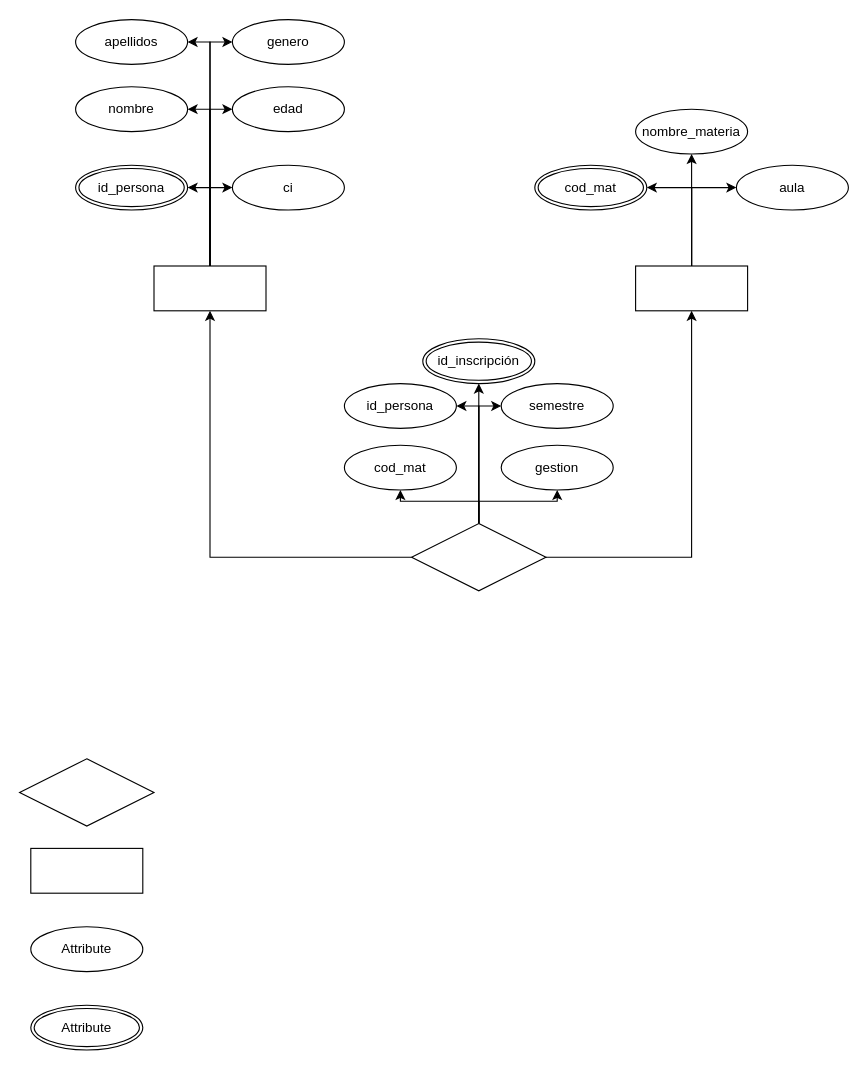
The diagram is 868 pixels wide and 1070 high, and some of its shapes have lost their labels. Here are the shapes that lost their labels. From the top down, the centre of each, then its label:
At (209,288): "persona".
At (691,288): "materia".
At (478,556): "inscripción".
At (86,792): "Relationship".
At (86,870): "Entity".
